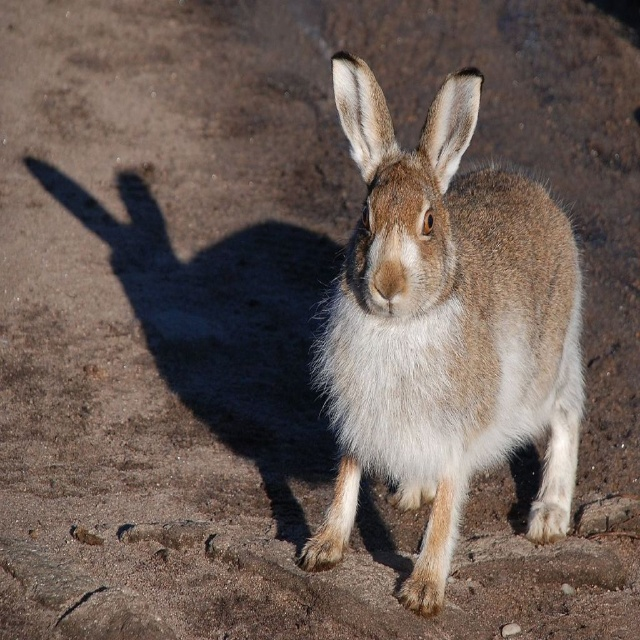Rabbit: (296, 50, 586, 621)
